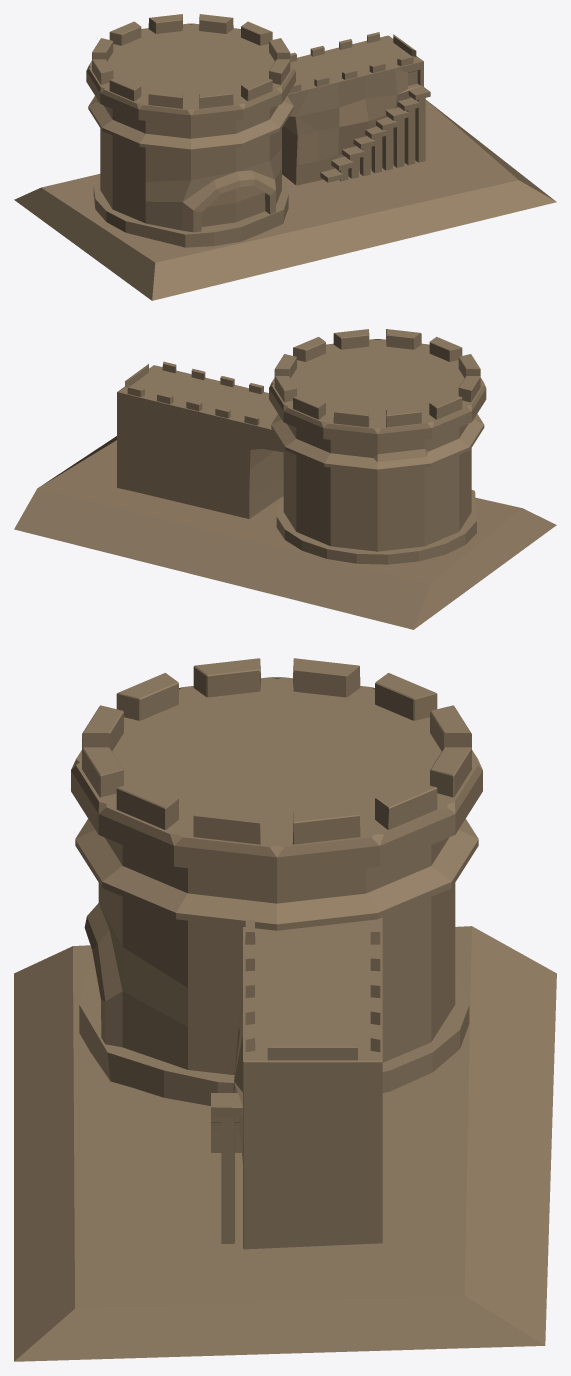
The picture shows the model from 3 angles, top to bottom: view 1: azimuth 30°, elevation 25°; view 2: azimuth 150°, elevation 25°; view 3: azimuth 270°, elevation 25°; orthographic projection. The views are drawn at different scales.
Visible parts, largest first — view 1: polySurface25; view 2: polySurface25; view 3: polySurface25.
Part boxes in pixels (bbox=[...]): polySurface25: bbox=[14, 14, 556, 300]; polySurface25: bbox=[14, 329, 556, 629]; polySurface25: bbox=[14, 658, 556, 1361].
Bounding box in the file's own units: 33.37 × 13.42 × 19.72.
